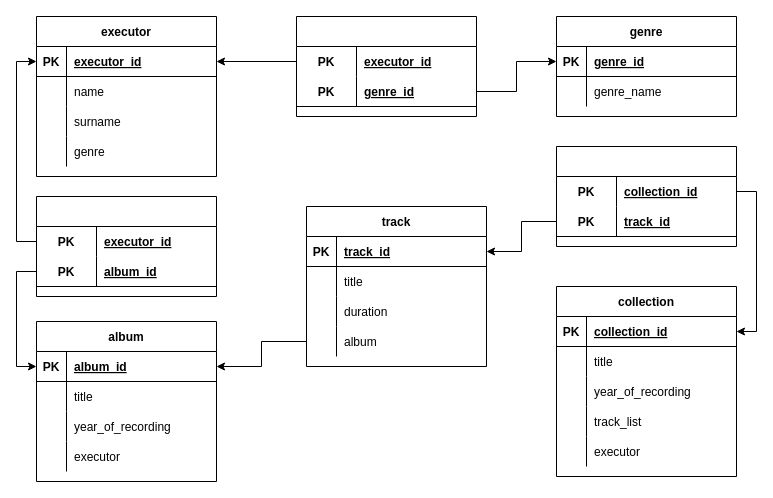
The diagram is 773 pixels wide and 498 high, and some of its shapes have lost their labels. The shapes that lost their labels are listed below. From the top down, each one's box as (x1, y1, x2, y2) in pixels, then its label:
(296, 16, 476, 116): executor_genre
(556, 146, 736, 246): collection_track
(36, 196, 216, 296): executor_album
